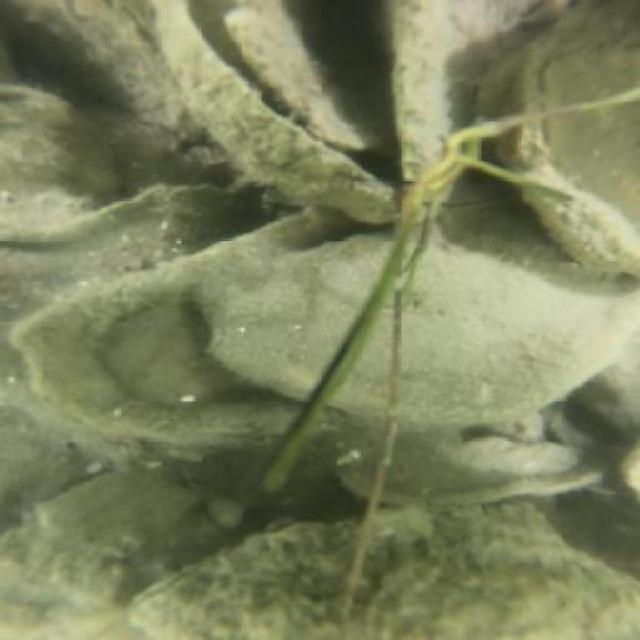Oyster-Closed: (490, 0, 638, 285), (456, 429, 574, 474)
Oyster-Indeterminate: (8, 199, 383, 444), (198, 227, 638, 429), (357, 508, 638, 638), (0, 2, 204, 141), (132, 522, 357, 638), (226, 3, 382, 156), (6, 86, 131, 230)
Oyster-Open: (157, 0, 457, 224)
